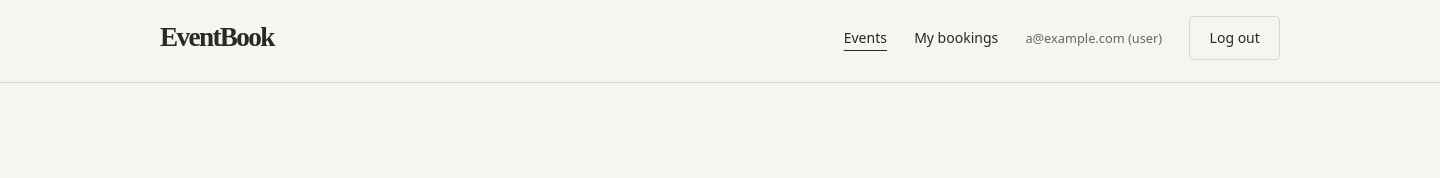
Test: role-aware navigation › clears local state but warns when revocation fails
expect the link "My bookings" is shown: met, box [914,28,998,47]
Click the button "Log out": (1235, 38) [1189,16,1280,60]
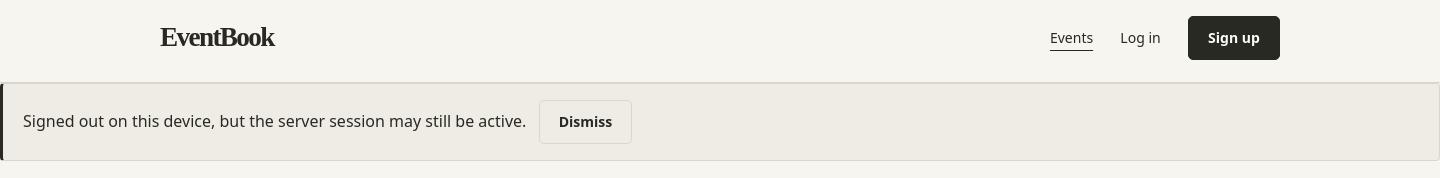
expect the text "Signed out on this device, but the server session may still be active. Dismiss" is shown: met, box [0,83,1439,161]
expect the link "My bookings" is gone: met
